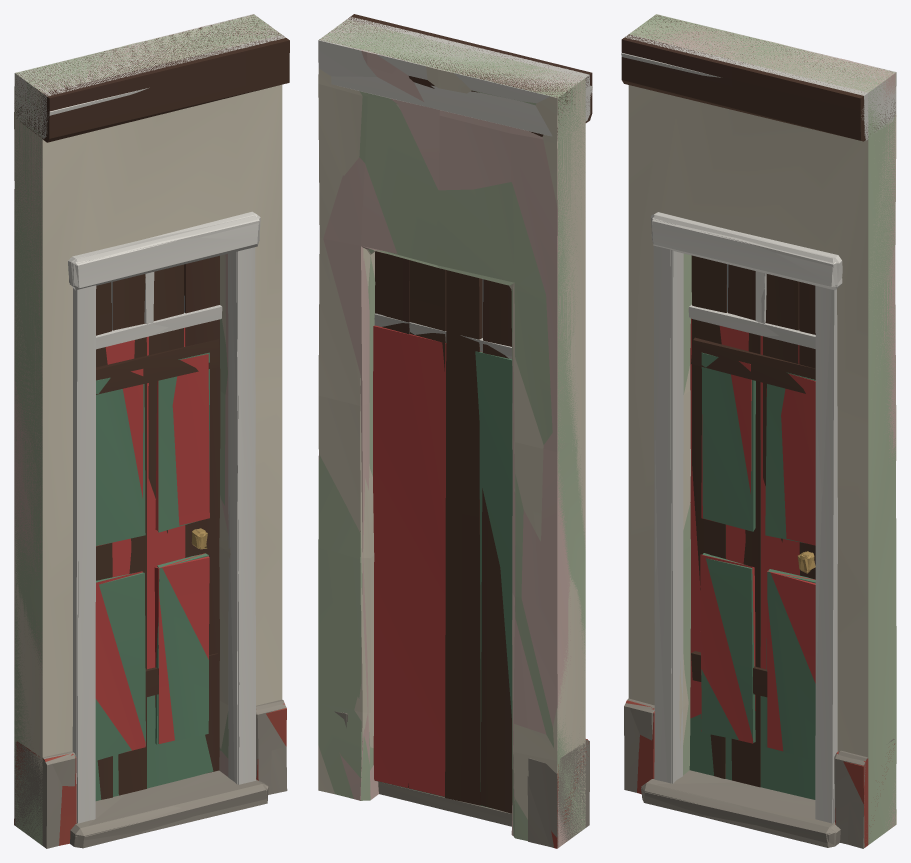
File: wall.door.glb
3 renders of one model, left to right at view 1: azimuth 30°, elevation 25°; view 2: azimuth 150°, elevation 25°; view 3: azimuth 330°, elevation 25°, orthographic.
Visible parts, largest first — view 1: wall.door.v2.mesh, wall.door.v1.mesh, wall.door.v0.mesh; view 2: wall.door.v0.mesh, wall.door.v2.mesh, wall.door.v1.mesh; view 3: wall.door.v2.mesh, wall.door.v1.mesh, wall.door.v0.mesh.
Boxes of the visible parts, x1,y1,x2,y2 form: wall.door.v2.mesh: (14,14,287,848); wall.door.v1.mesh: (14,14,289,845); wall.door.v0.mesh: (14,14,286,848); wall.door.v0.mesh: (318,16,590,848); wall.door.v2.mesh: (318,18,592,846); wall.door.v1.mesh: (318,14,592,848); wall.door.v2.mesh: (621,14,896,848); wall.door.v1.mesh: (621,15,895,847); wall.door.v0.mesh: (624,14,896,847).
Bounding box in the file's own units: 0.9999 × 3 × 0.2992.
